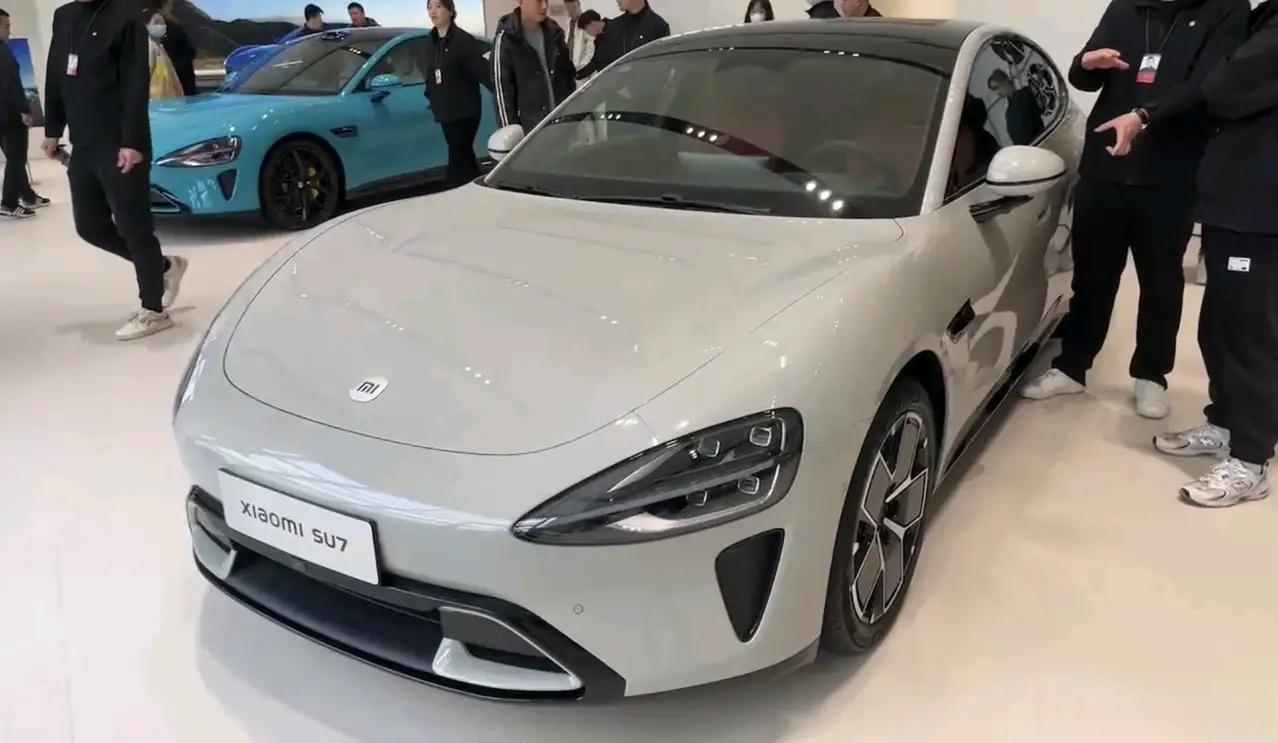su7: (190, 11, 1108, 685), (108, 17, 524, 220)
